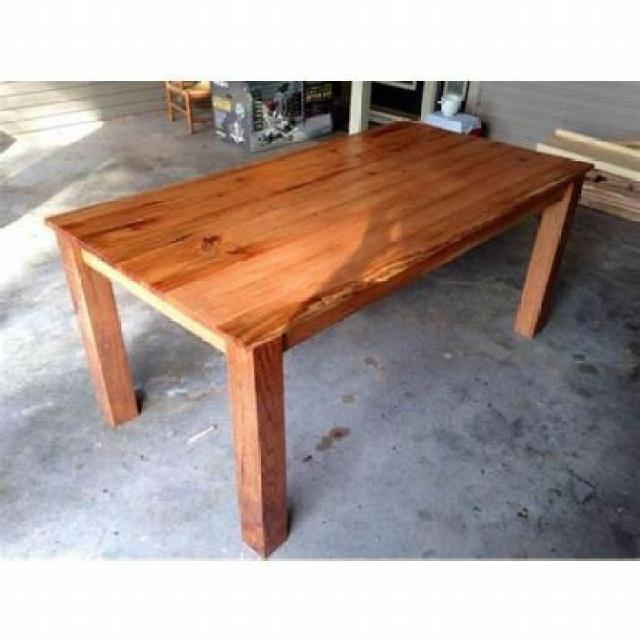tables: (43, 118, 594, 557)
